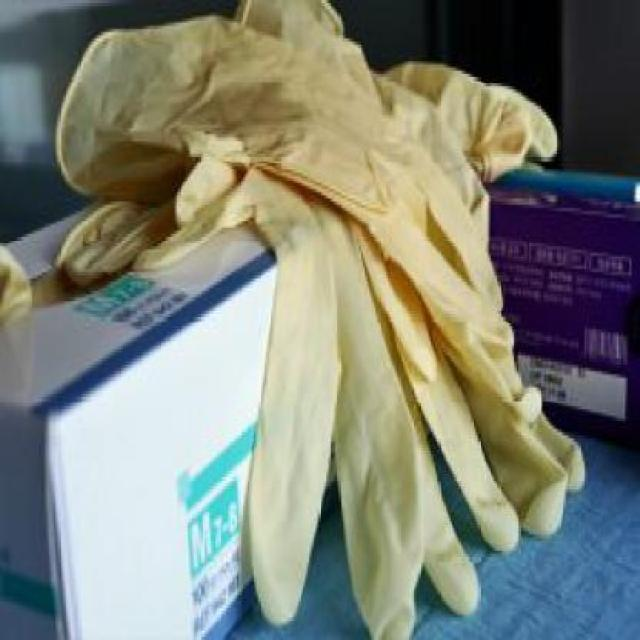glove_hand: (57, 0, 591, 638)
